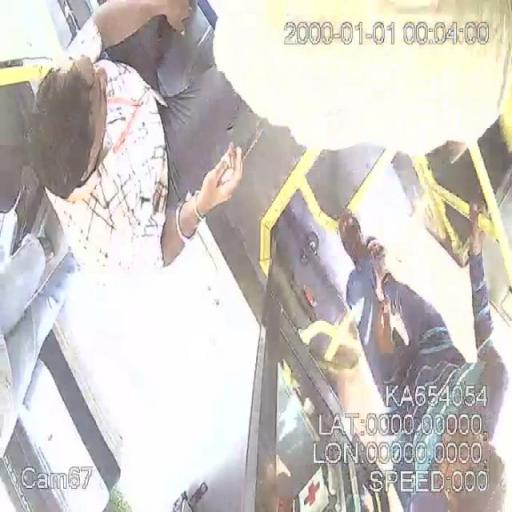persona: (316, 195, 512, 512), (10, 0, 230, 255)
